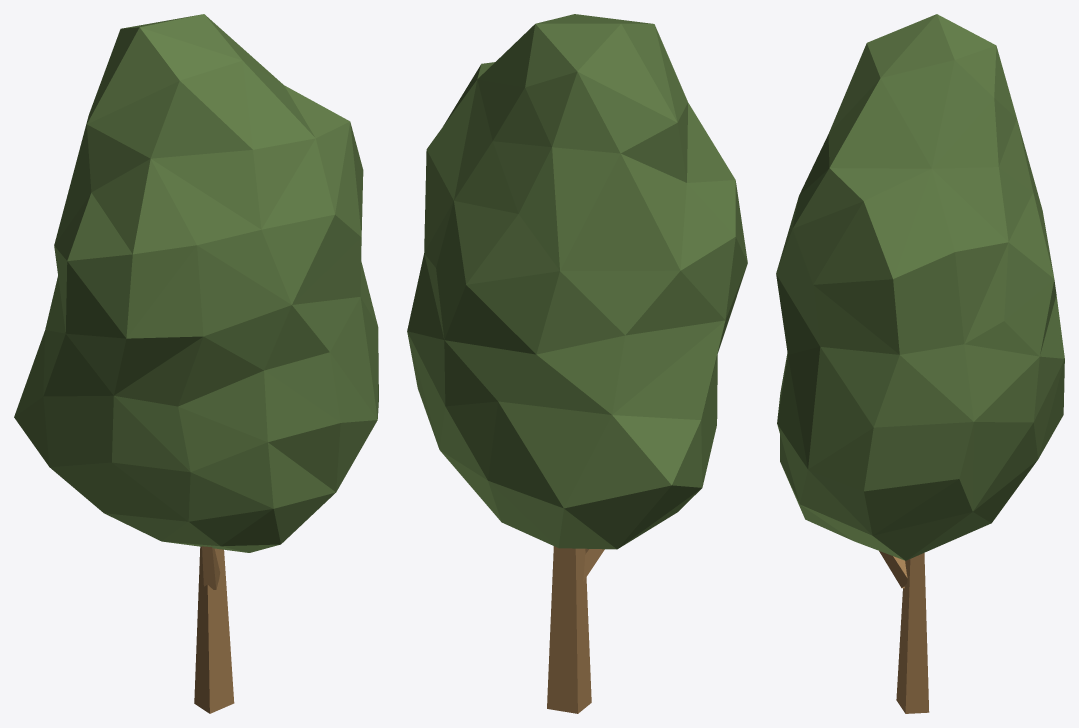
The model's file is tree03.fbx.
The picture shows the model from 3 angles, left to right: view 1: azimuth 30°, elevation 25°; view 2: azimuth 150°, elevation 25°; view 3: azimuth 270°, elevation 25°; orthographic projection. The views are drawn at different scales.
Parts seen in each view (by area): view 1: tree_03; view 2: tree_03; view 3: tree_03.
Boxes of the visible parts, x1,y1,x2,y2 form: tree_03: (14,14,378,713); tree_03: (407,14,747,713); tree_03: (776,14,1064,713).
Size of the model in its own units: 2.77 by 2.4 by 6.08.
